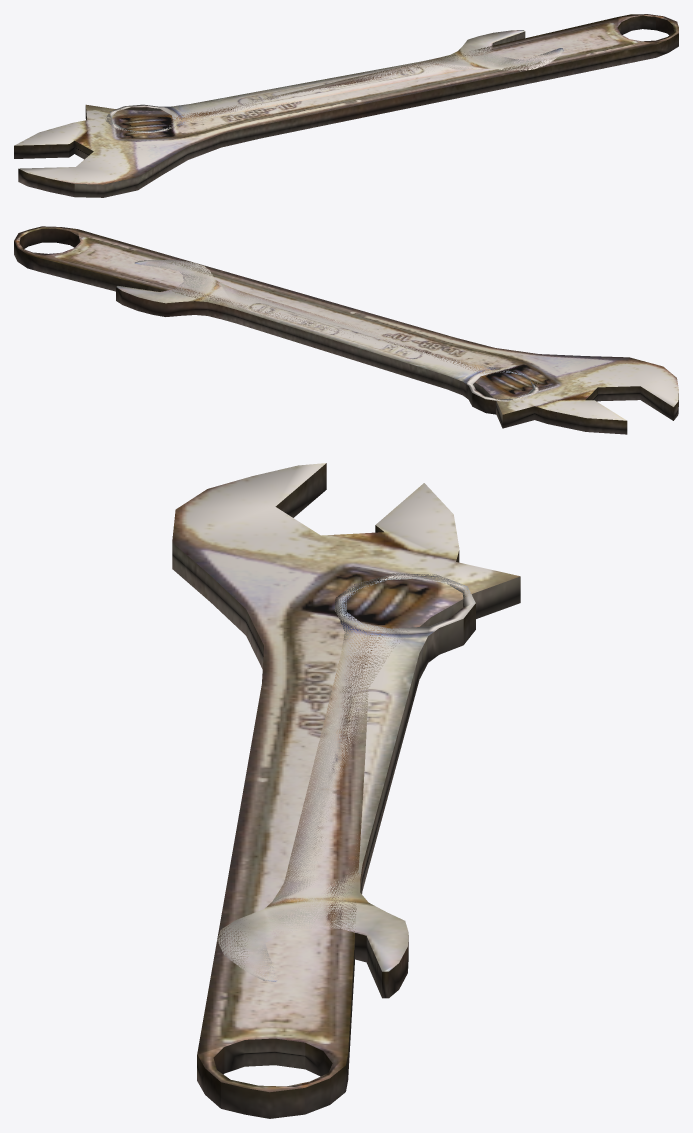
Rendered from werkzeug.fbx.
The picture shows the model from 3 angles, top to bottom: view 1: azimuth 30°, elevation 25°; view 2: azimuth 150°, elevation 25°; view 3: azimuth 270°, elevation 25°; orthographic projection. The views are drawn at different scales.
Parts seen in each view (by area): view 1: Mesh_ncl1_1, Mesh; view 2: Mesh_ncl1_1, Mesh; view 3: Mesh_ncl1_1, Mesh.
Part boxes in pixels (bbox=[...]): Mesh_ncl1_1: bbox=[14, 14, 678, 197]; Mesh: bbox=[105, 30, 563, 133]; Mesh_ncl1_1: bbox=[14, 226, 678, 434]; Mesh: bbox=[116, 259, 538, 414]; Mesh_ncl1_1: bbox=[172, 463, 520, 1118]; Mesh: bbox=[217, 573, 475, 998].
Bounding box in the file's own units: 553 × 10.95 × 130.
